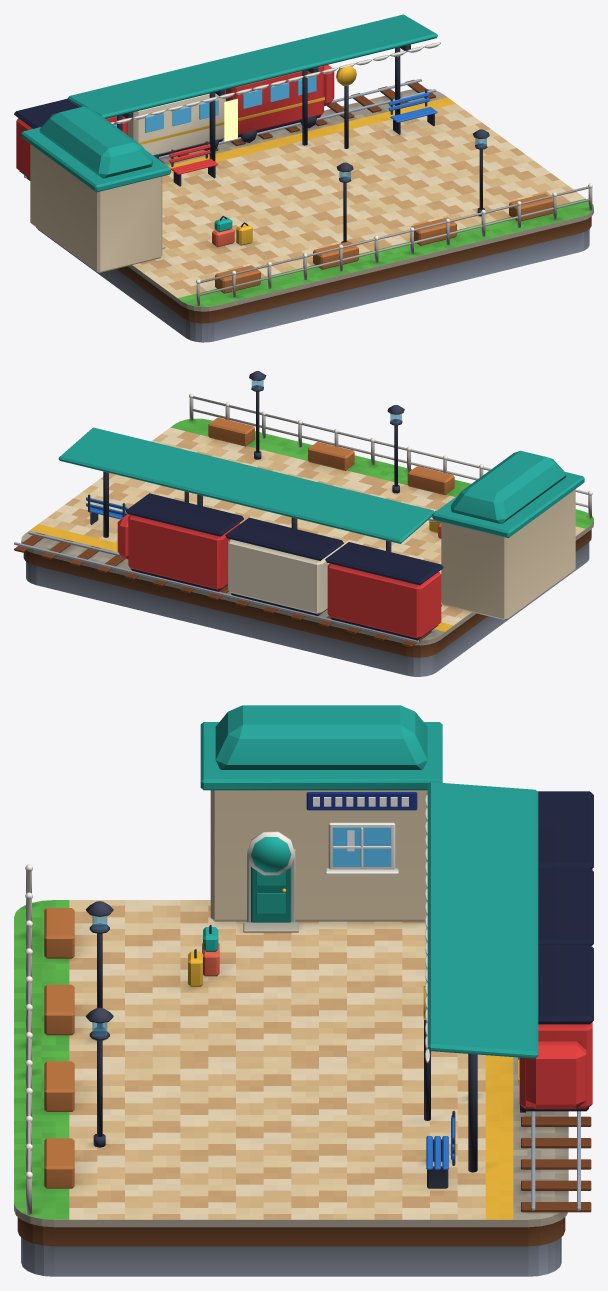
Rendered from station.glb.
The picture shows the model from 3 angles, top to bottom: view 1: azimuth 30°, elevation 25°; view 2: azimuth 150°, elevation 25°; view 3: azimuth 270°, elevation 25°; orthographic projection. The views are drawn at different scales.
Visible parts, largest first — view 1: station_Matte, station_Gloss, station_Satin, station_Metal, station_Glow_warm; view 2: station_Gloss, station_Satin, station_Matte, station_Metal; view 3: station_Matte, station_Gloss, station_Satin, station_Metal.
Boxes of the visible parts, x1=… form: station_Matte: x1=128, y1=89, x2=593, y2=311; station_Gloss: x1=14, y1=14, x2=589, y2=295; station_Satin: x1=19, y1=42, x2=592, y2=342; station_Metal: x1=24, y1=79, x2=436, y2=177; station_Glow_warm: x1=224, y1=98, x2=237, y2=141; station_Gloss: x1=58, y1=371, x2=588, y2=638; station_Satin: x1=14, y1=393, x2=592, y2=676; station_Matte: x1=21, y1=418, x2=593, y2=645; station_Metal: x1=14, y1=531, x2=433, y2=642; station_Matte: x1=14, y1=797, x2=568, y2=1227; station_Gloss: x1=27, y1=705, x2=593, y2=1188; station_Satin: x1=17, y1=790, x2=591, y2=1276; station_Metal: x1=282, y1=888, x2=580, y2=1210.
Size of the model in its own units: 16.5 by 5.32 by 11.5.
